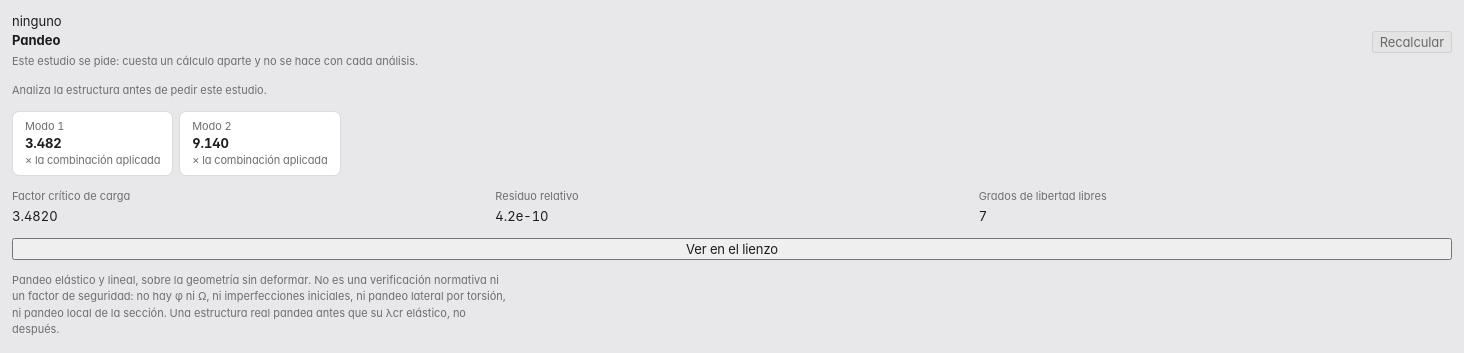
Test case: vista de estabilidad · el modo en el lienzo › elegir otro modo con uno dibujado deja de anunciar el viejo como dibujado
Click the button "Ver en el lienzo": (732, 249) [12,238,1452,260]
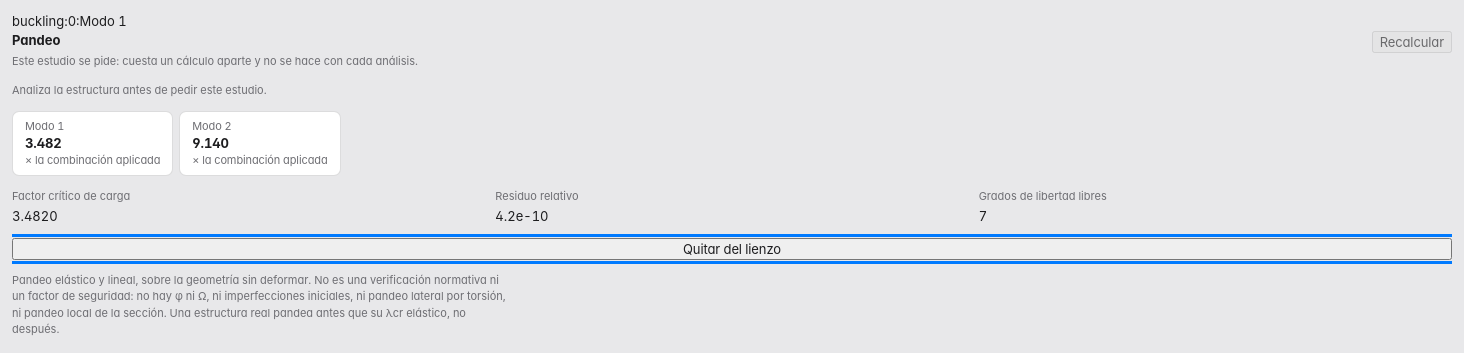
Expected: the text named "Modo en el lienzo" reads "buckling:0:Modo 1", [12,13,127,29]
Click the option "Modo 2 9.140 × la combinación aplicada": (260, 144) [179,111,341,176]
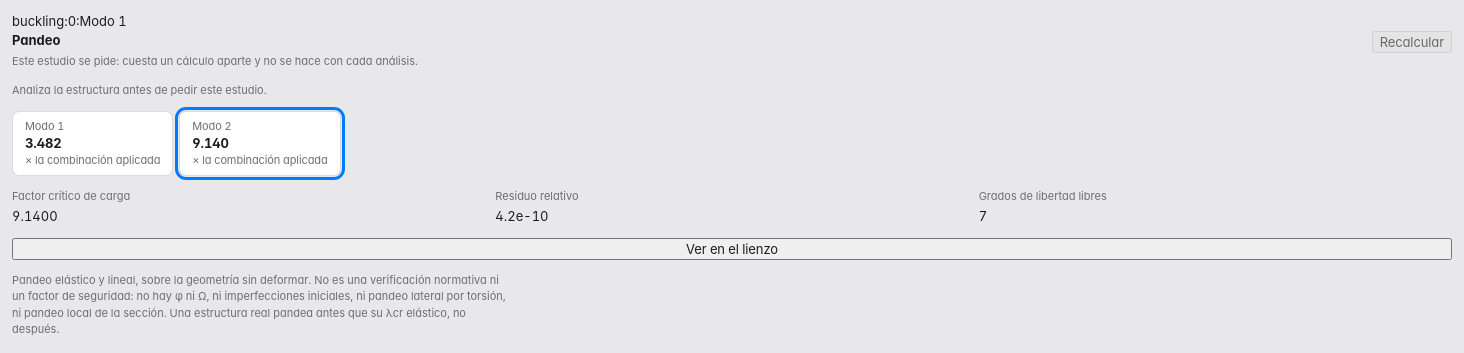
Expected: the button "Ver en el lienzo" is shown
El botón vuelve a ofrecer «ver»: lo dibujado ya no es lo seleccionado.
Click the button "Ver en el lienzo": (732, 249) [12,238,1452,260]
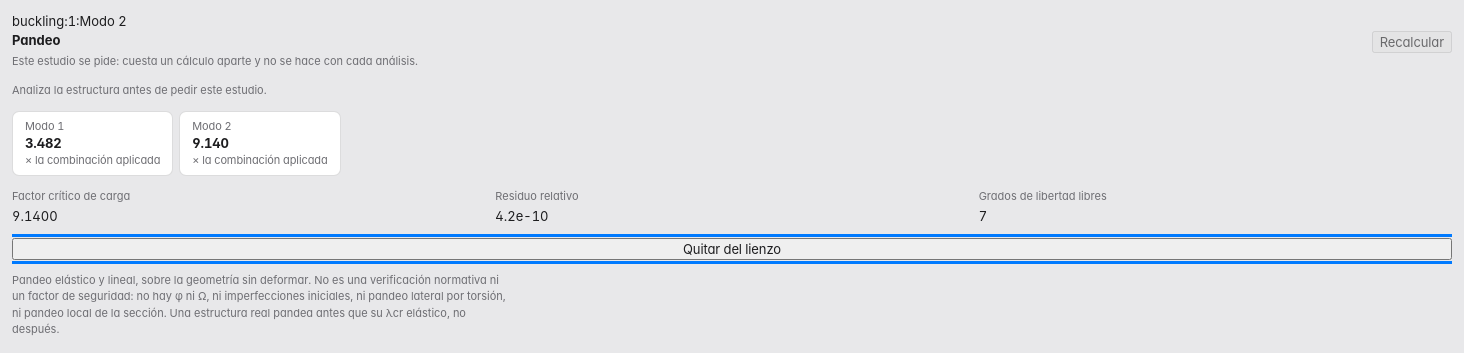
Expected: the text named "Modo en el lienzo" reads "buckling:1:Modo 2", [12,13,127,29]
